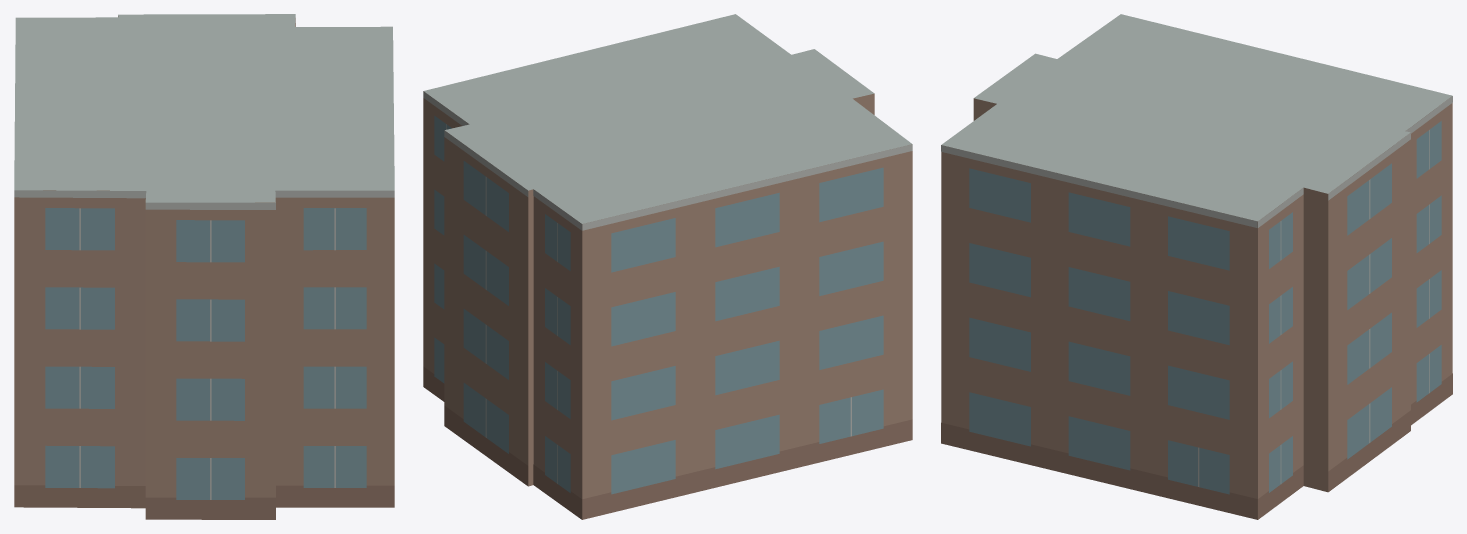
Rendered from survey-upis-32942495.glb.
3 renders of one model, left to right at view 1: azimuth 30°, elevation 25°; view 2: azimuth 150°, elevation 25°; view 3: azimuth 270°, elevation 25°, orthographic. The views are drawn at different scales.
Visible parts, largest first — view 1: survey-upis-32942495.tmp; view 2: survey-upis-32942495.tmp; view 3: survey-upis-32942495.tmp.
Boxes of the visible parts, bbox=[...] form: survey-upis-32942495.tmp: bbox=[14, 14, 394, 519]; survey-upis-32942495.tmp: bbox=[423, 14, 912, 519]; survey-upis-32942495.tmp: bbox=[941, 14, 1452, 519].
Size of the model in its own units: 15.88 by 10.65 by 16.56.
